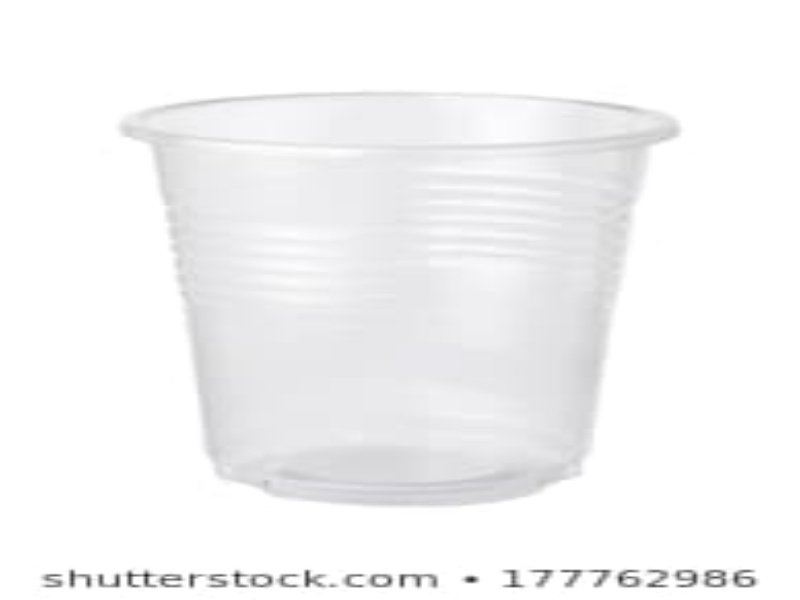plastic-cup: (124, 91, 678, 502)
